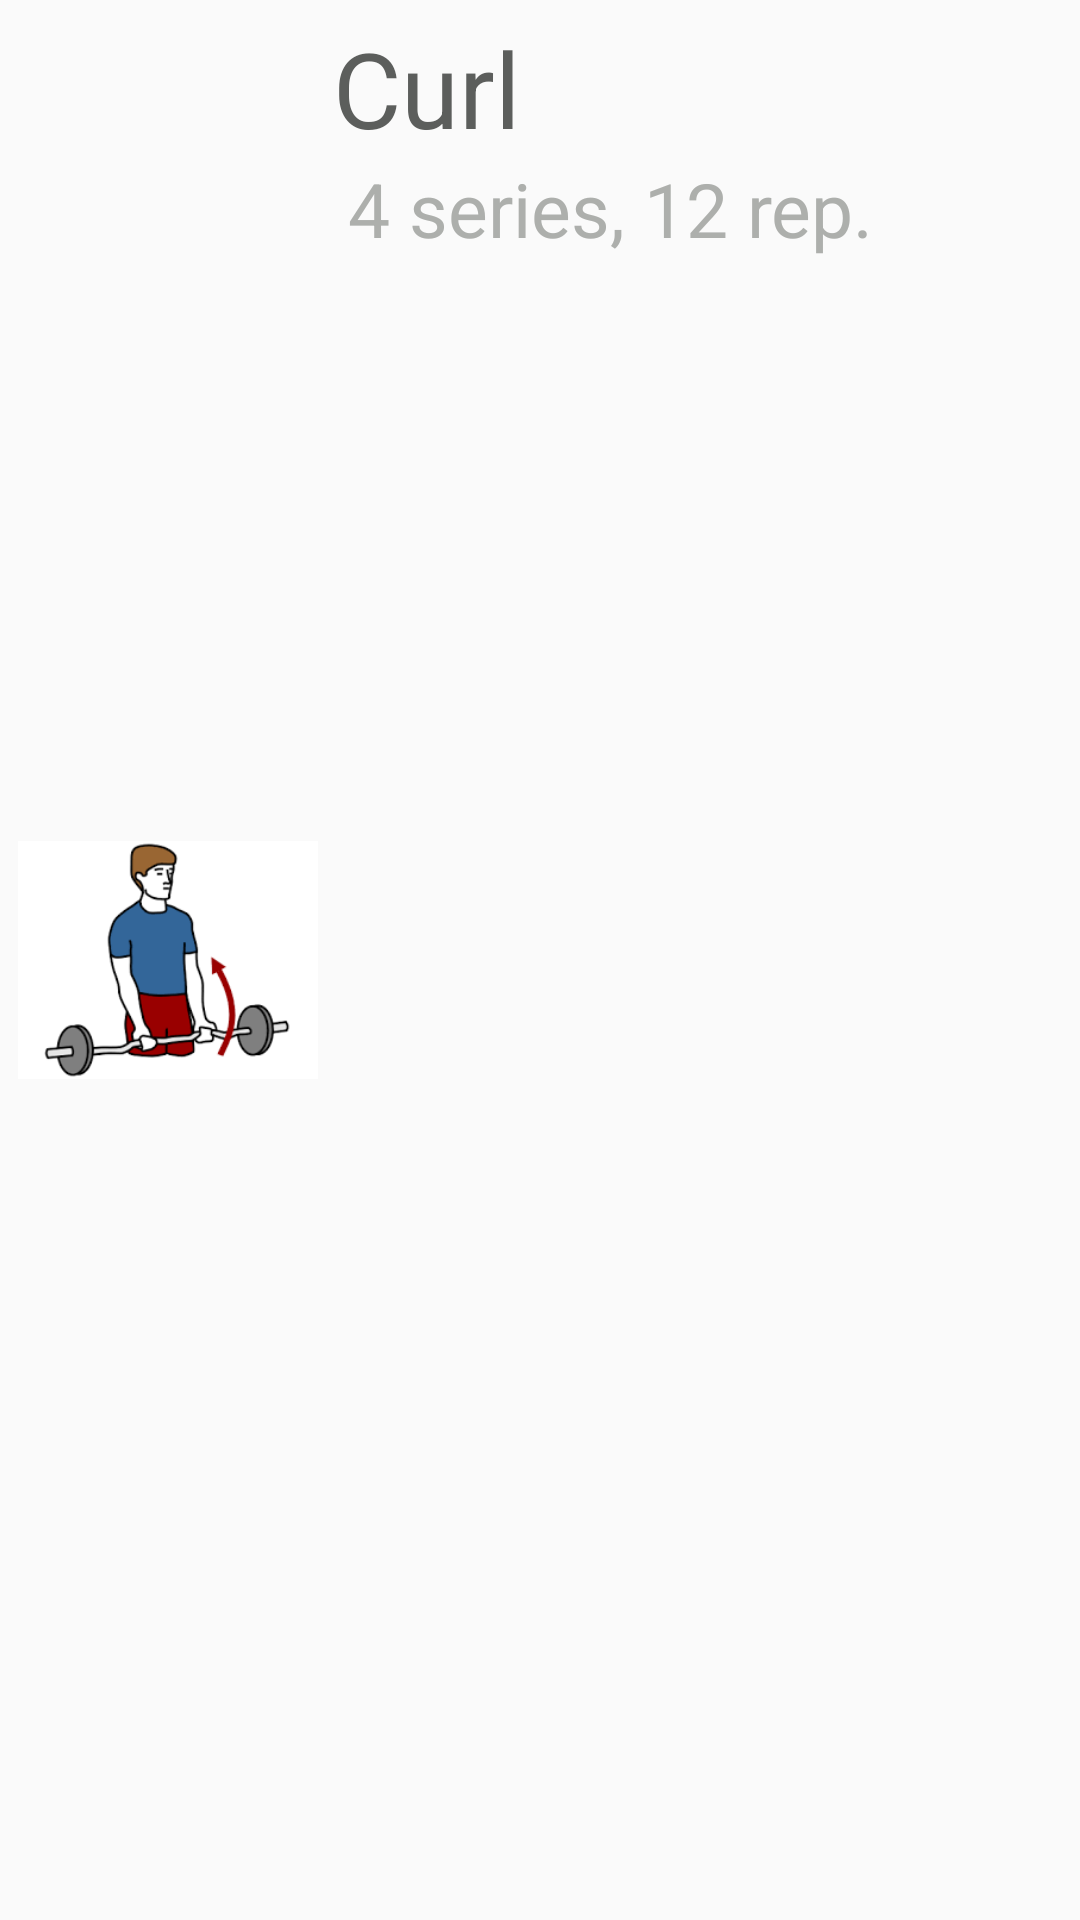

Named icons in this screenshot (1080w x 1920h) and their centers, (x=x, y=y):
Exercise Picture: (x=167, y=960)
